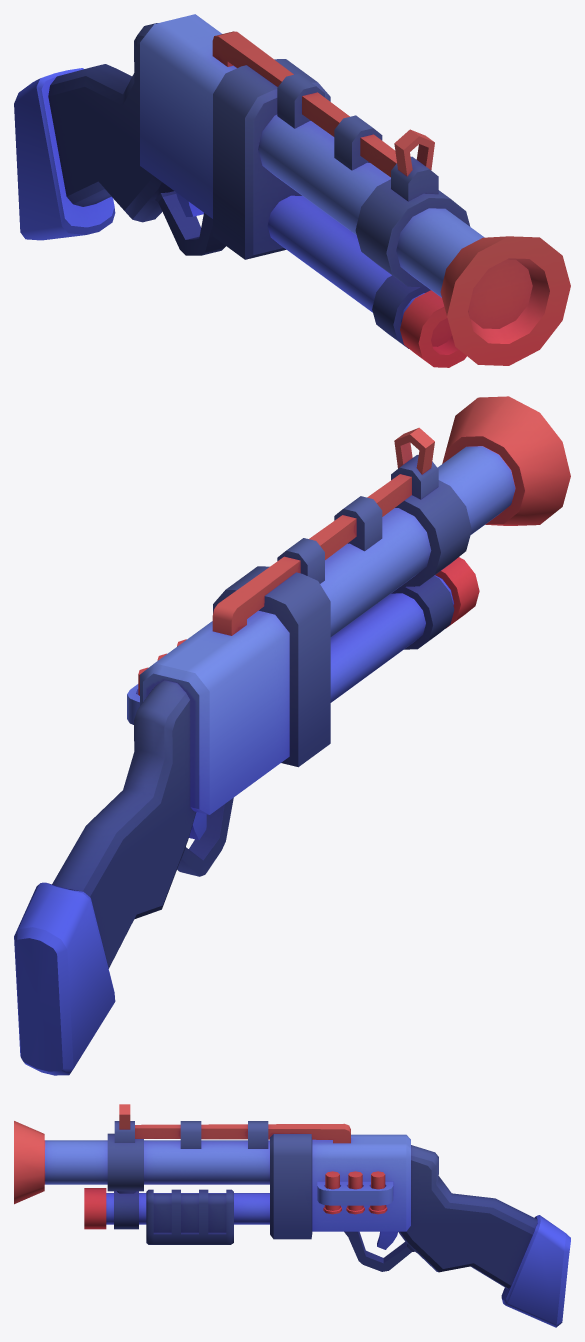
File: LowPoly_ShotGun.fbx
The picture shows the model from 3 angles, top to bottom: view 1: azimuth 30°, elevation 25°; view 2: azimuth 150°, elevation 25°; view 3: azimuth 270°, elevation 25°; orthographic projection. The views are drawn at different scales.
Visible parts, largest first — view 1: Shotgun; view 2: Shotgun; view 3: Shotgun, cartridge.
Part boxes in pixels (<box>): Shotgun: <box>14,14,570,367</box>; Shotgun: <box>14,396,570,1075</box>; Shotgun: <box>14,1104,570,1327</box>; cartridge: <box>323,1171,387,1214</box>.
Bounding box in the file's own units: 52.53 × 146 × 336.
